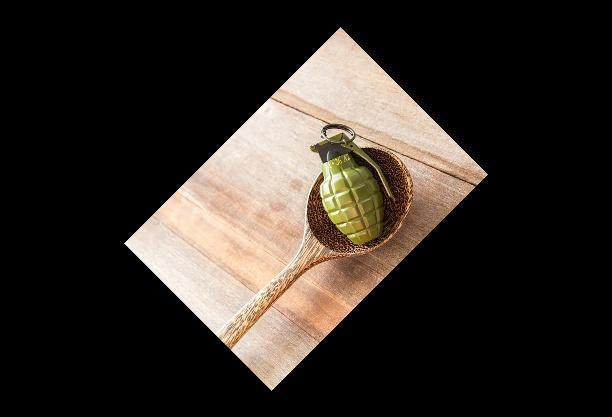Grenade: (309, 122, 394, 244)
